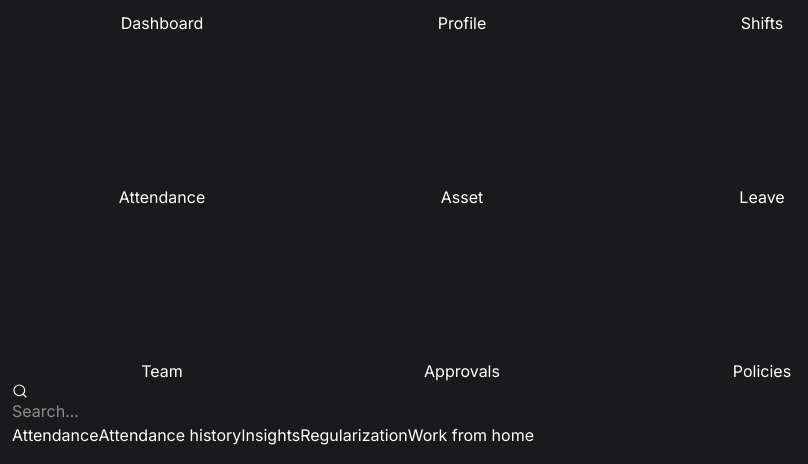
Cascading sidebar › has the Default items on a rail; clicking one opens its screens in the panel
Click the tab "Asset": click(462, 122) [312,35,612,209]
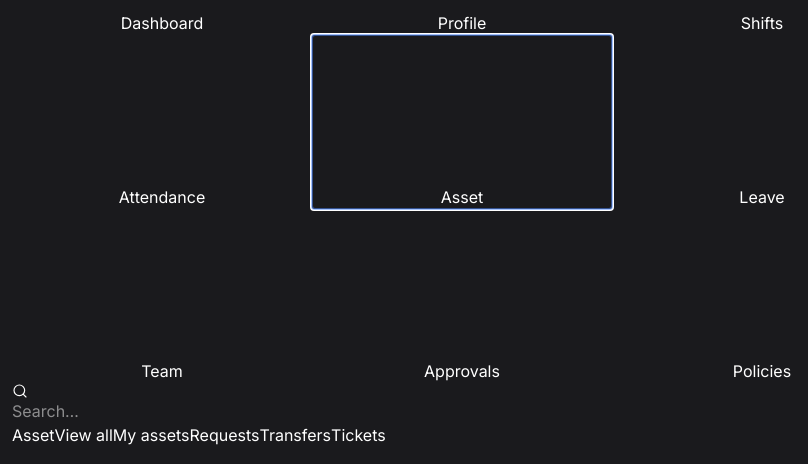
Result: the button "Tickets" is shown at [331,423,386,447]
Result: the button "Attendance history" is gone
